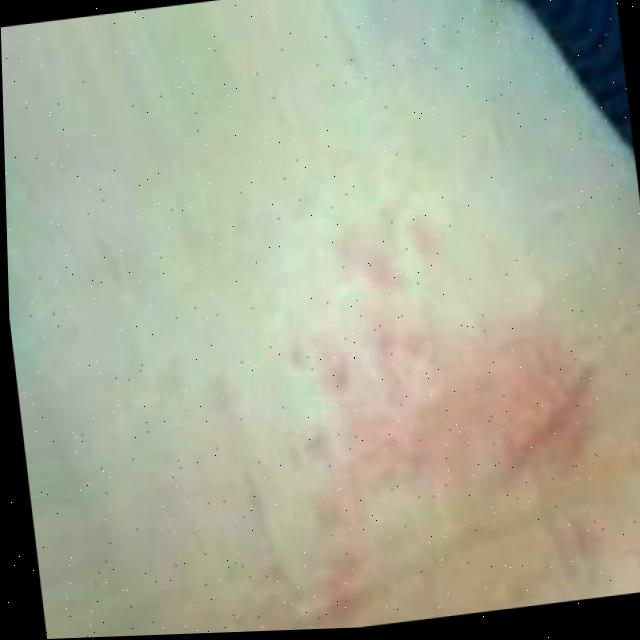Shingles: (304, 297, 587, 518)
